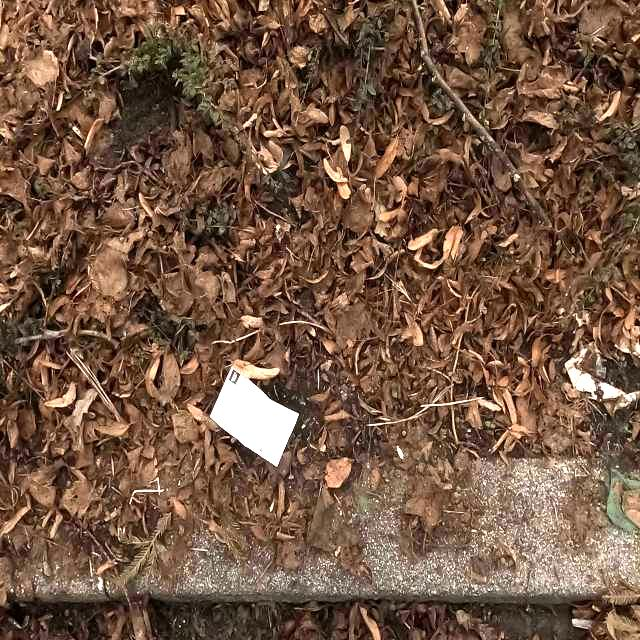Paper: (204, 362, 306, 468)
